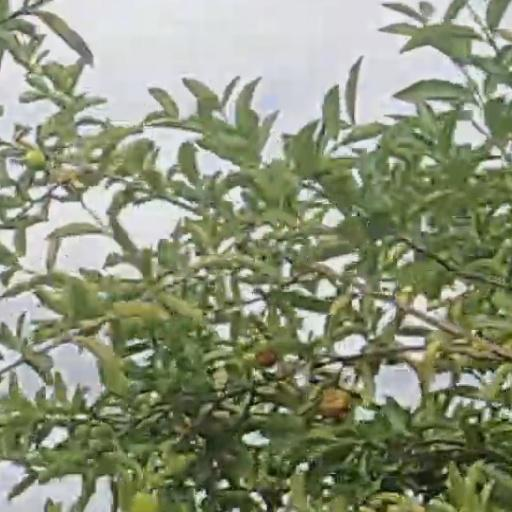acerola: (318, 393, 350, 417), (125, 491, 153, 512)
